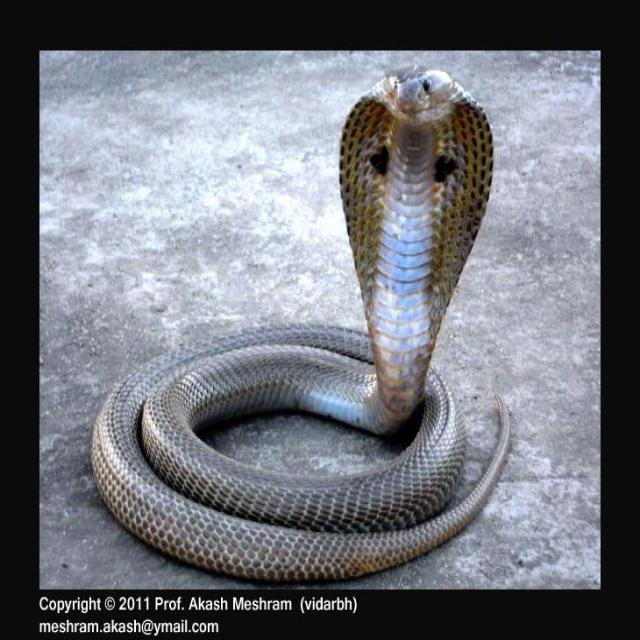Snake: (90, 64, 511, 583)
